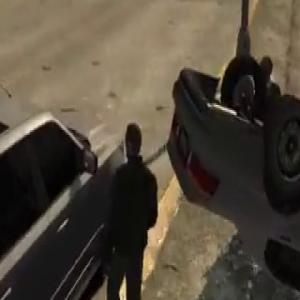severe: (162, 38, 300, 300)
